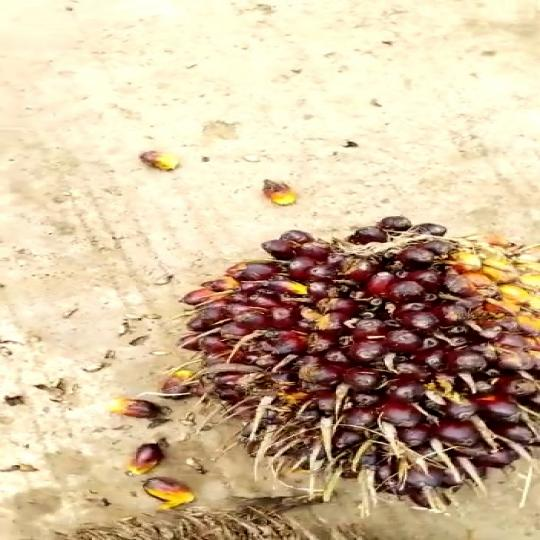kurang masak: (181, 209, 540, 498)
